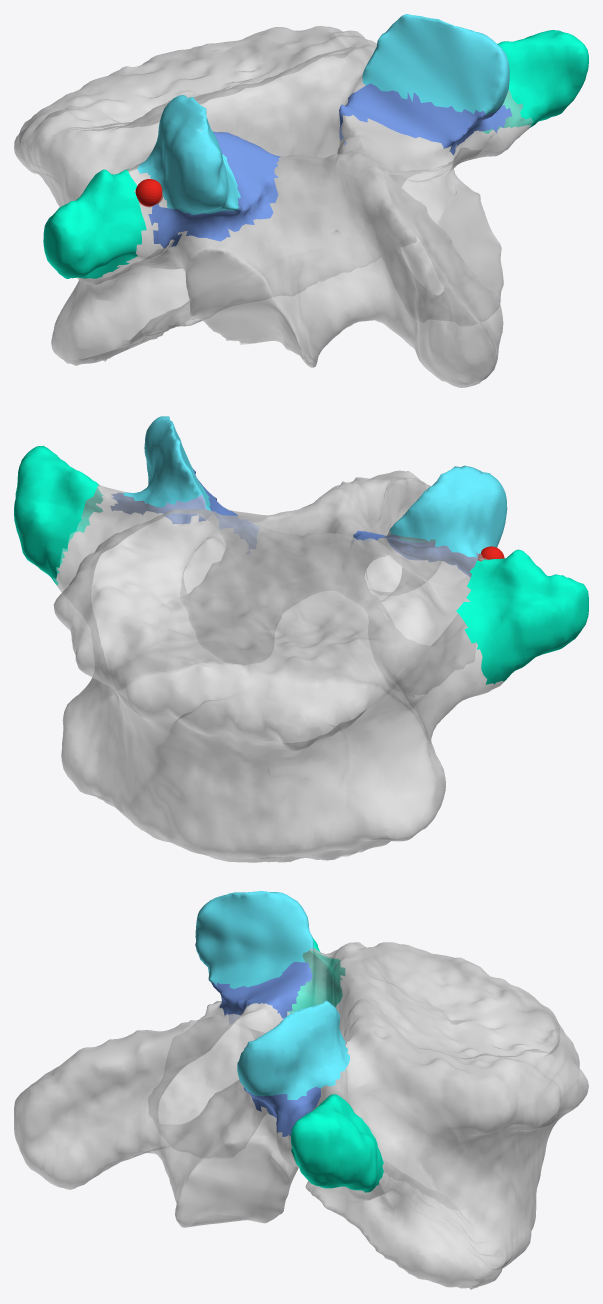
The model's file is fully-coloured(3).glb.
3 renders of one model, top to bottom at view 1: azimuth 30°, elevation 25°; view 2: azimuth 150°, elevation 25°; view 3: azimuth 270°, elevation 25°, orthographic. The views are drawn at different scales.
Parts seen in each view (by area): view 1: L5.001, Sphere; view 2: L5.001; view 3: L5.001.
Boxes of the visible parts, box(x1,y1,x2,y2) form: L5.001: box(14, 14, 588, 387); Sphere: box(135, 179, 163, 207); L5.001: box(14, 416, 588, 862); L5.001: box(14, 891, 588, 1289).
Size of the model in its own units: 90.51 by 52.75 by 88.94.
